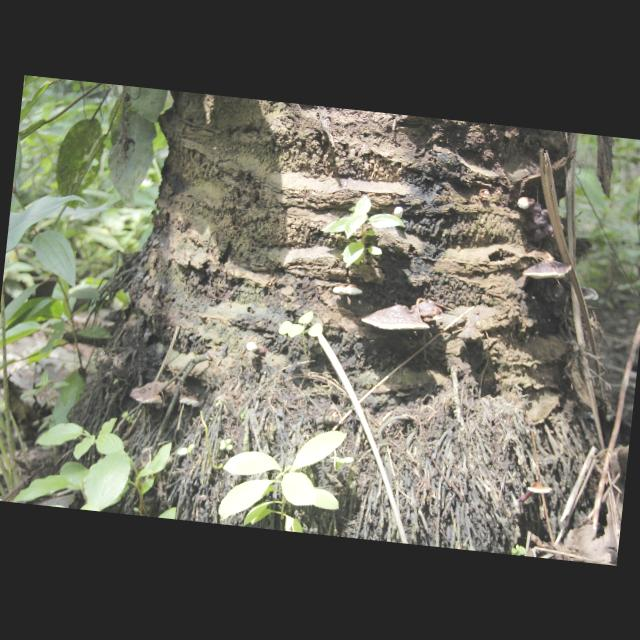ganoderma: (361, 295, 446, 337), (522, 258, 574, 284), (529, 199, 558, 245), (129, 376, 170, 407), (520, 481, 553, 508), (333, 282, 364, 297), (180, 393, 201, 409), (581, 287, 601, 302)
primordium: (517, 197, 532, 211), (247, 342, 260, 355), (393, 207, 405, 221)
